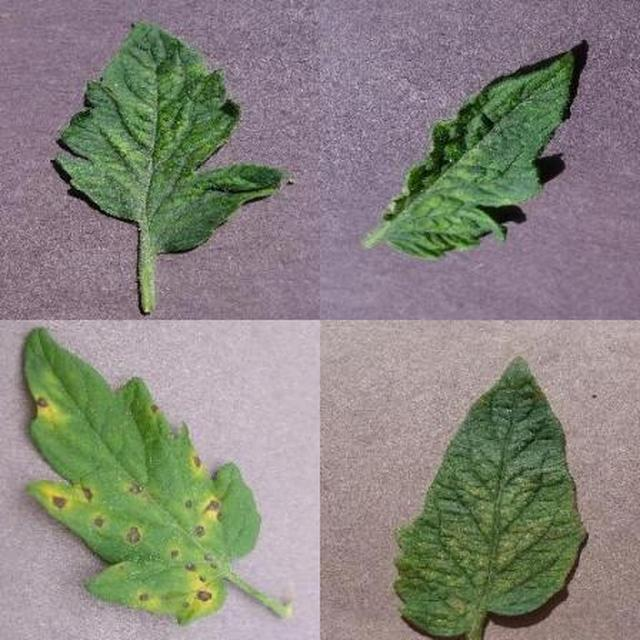Mosaic Virus Leaf: (204, 196, 640, 640)
